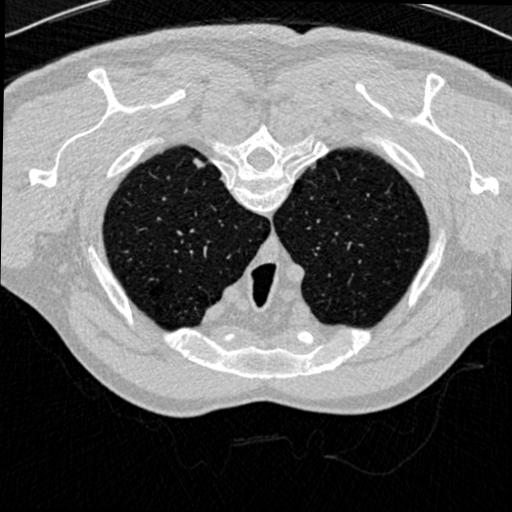nodule: (191, 157, 205, 171)
